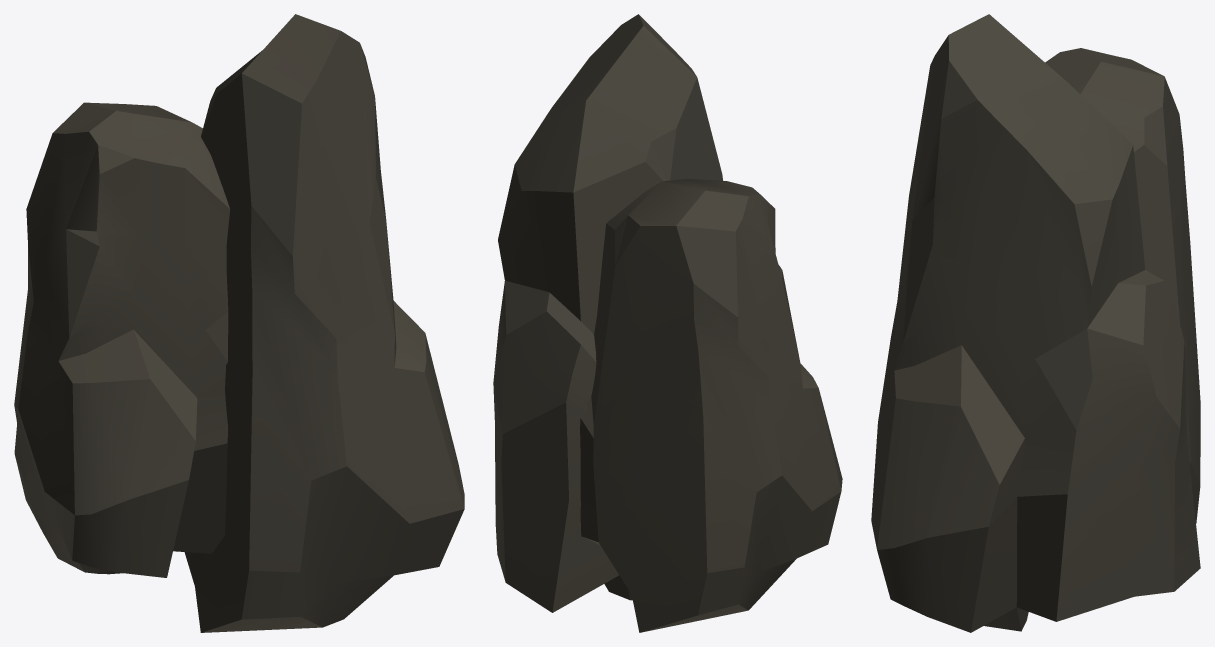
The model's file is Rock_4.obj.
3 renders of one model, left to right at view 1: azimuth 30°, elevation 25°; view 2: azimuth 150°, elevation 25°; view 3: azimuth 270°, elevation 25°, orthographic. The views are drawn at different scales.
Parts seen in each view (by area): view 1: Rock_4_Cube.025; view 2: Rock_4_Cube.025; view 3: Rock_4_Cube.025.
Boxes of the visible parts, x1,y1,x2,y2 form: Rock_4_Cube.025: (14,14,464,632); Rock_4_Cube.025: (493,14,842,632); Rock_4_Cube.025: (871,14,1200,632).
Size of the model in its own units: 2.16 by 3.46 by 1.7.
Materials: 1 (1 with a texture image).
